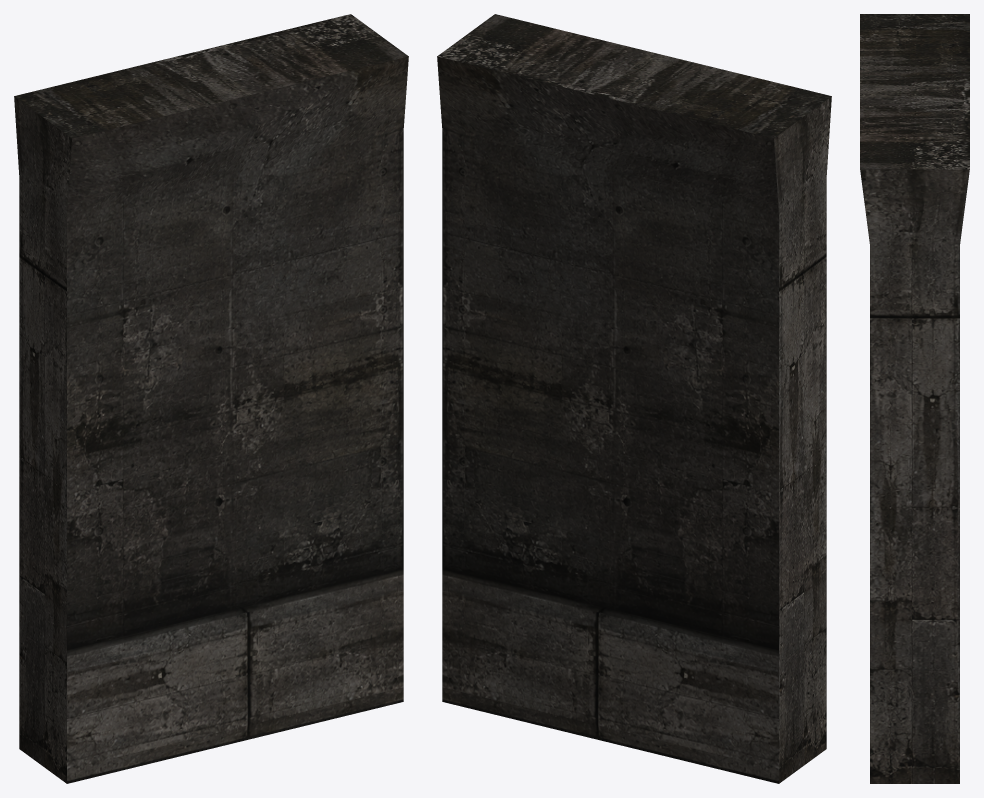
The model's file is Tombstone03.fbx.
The picture shows the model from 3 angles, left to right: view 1: azimuth 30°, elevation 25°; view 2: azimuth 150°, elevation 25°; view 3: azimuth 270°, elevation 25°; orthographic projection. The views are drawn at different scales.
Visible parts, largest first — view 1: Tombstone03; view 2: Tombstone03; view 3: Tombstone03.
Part boxes in pixels (bbox=[...]): Tombstone03: bbox=[14, 14, 408, 783]; Tombstone03: bbox=[437, 14, 831, 783]; Tombstone03: bbox=[860, 14, 969, 783].
Bounding box in the file's own units: 0.2521 × 0.4644 × 0.0752.
